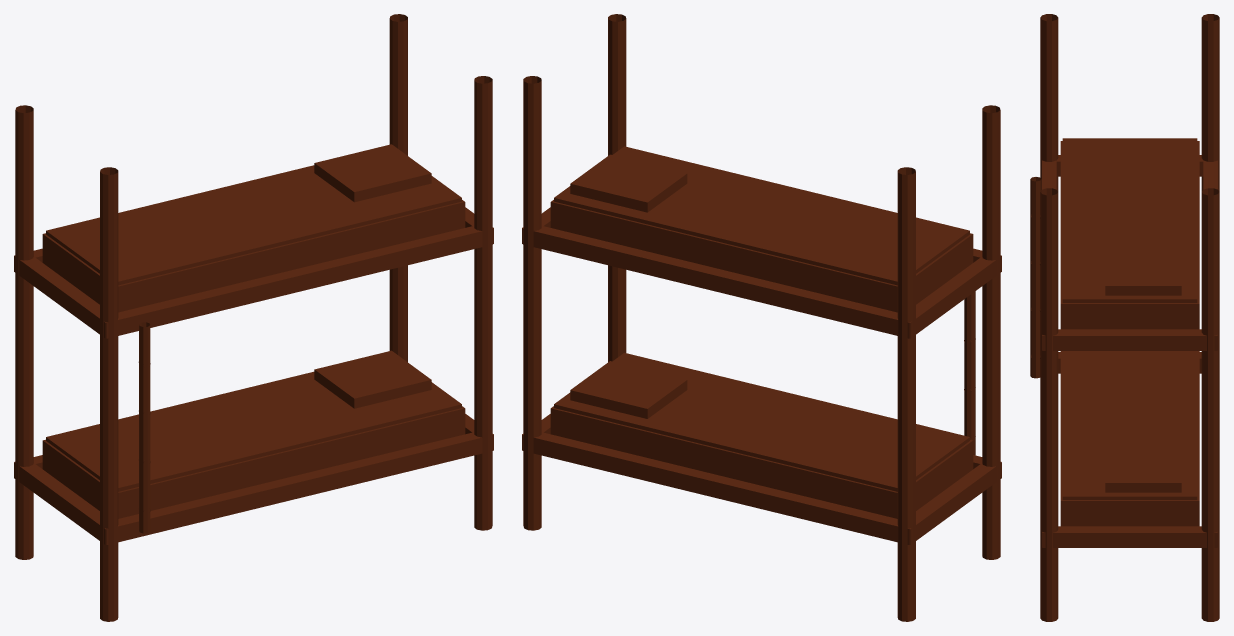
File: litera-prision.obj
The picture shows the model from 3 angles, left to right: view 1: azimuth 30°, elevation 25°; view 2: azimuth 150°, elevation 25°; view 3: azimuth 270°, elevation 25°; orthographic projection. The views are drawn at different scales.
Visible parts, largest first — view 1: Litera_Prision_Tekaym; view 2: Litera_Prision_Tekaym; view 3: Litera_Prision_Tekaym.
Part boxes in pixels (x1,y1,x2,y2): Litera_Prision_Tekaym: (14,14,493,621); Litera_Prision_Tekaym: (522,14,1001,621); Litera_Prision_Tekaym: (1030,14,1219,621).
Bounding box in the file's own units: 1.92 × 2.1 × 0.845.
